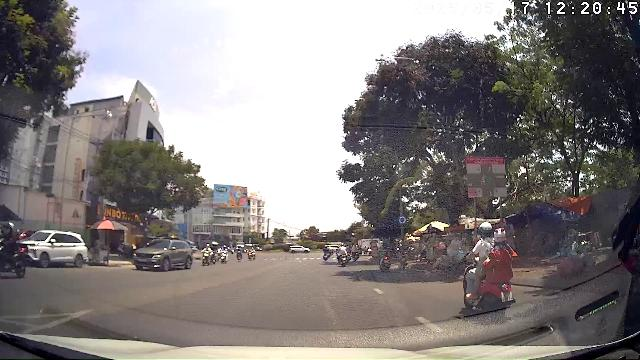303-noi-giao-nhau-chay-theo-vong-xuyen: (398, 216, 407, 224)
